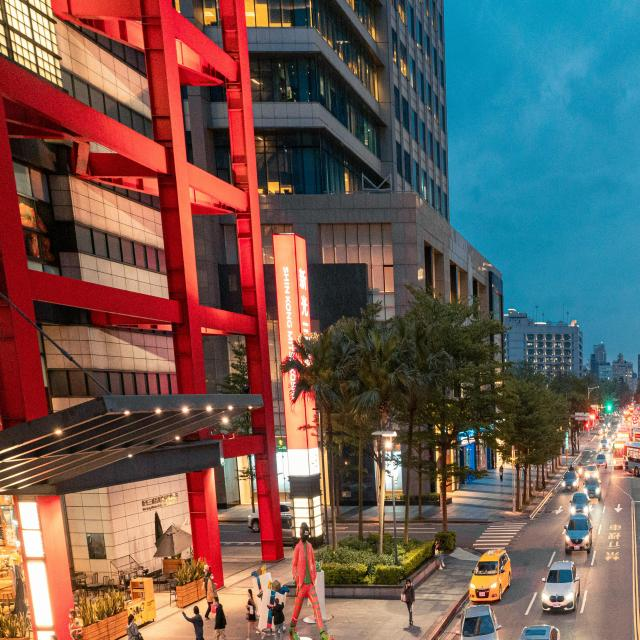bus: (623, 442, 640, 483), (612, 438, 631, 468)
car: (469, 548, 512, 599), (542, 560, 580, 613), (456, 605, 502, 640), (564, 514, 593, 554), (507, 624, 564, 640), (570, 492, 590, 518), (583, 477, 601, 501), (562, 471, 580, 492), (585, 462, 598, 479), (595, 454, 607, 468), (600, 439, 608, 450)
